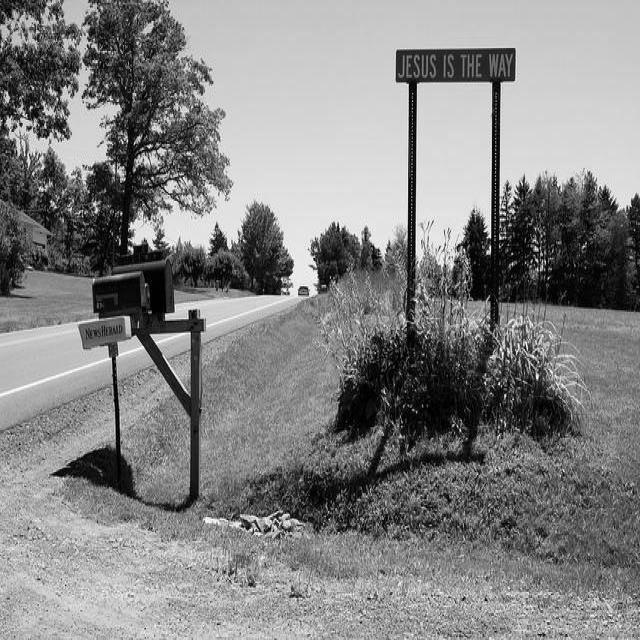vehicle: (280, 281, 289, 298), (298, 287, 310, 296)
